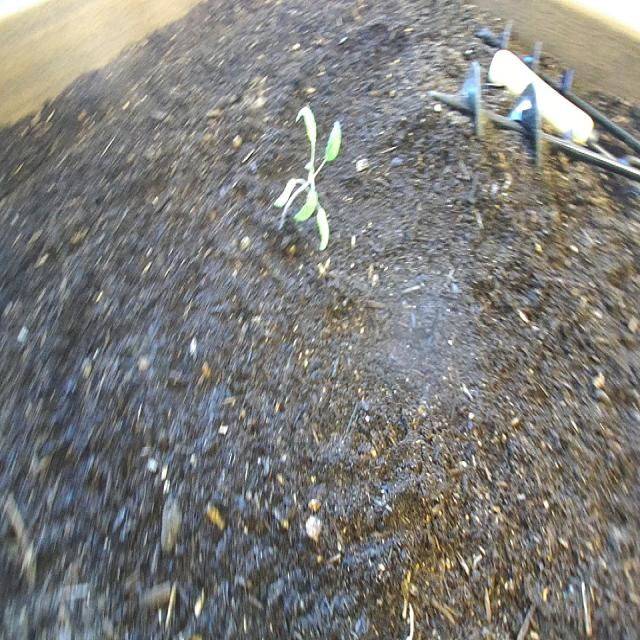Healthy: (266, 82, 354, 267)
